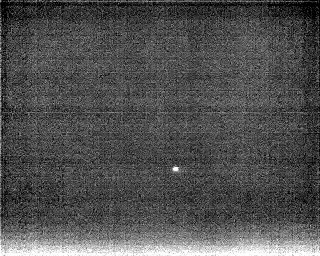AIRPLANE: (170, 163, 181, 174)
